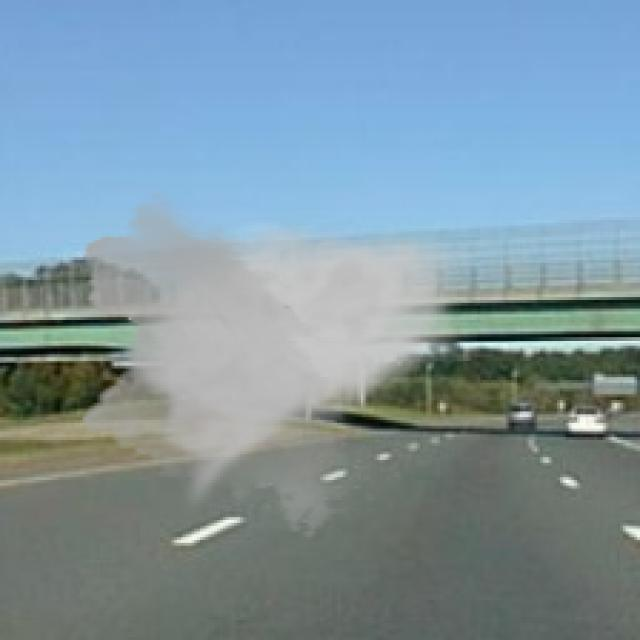smoke: (72, 191, 477, 540)
